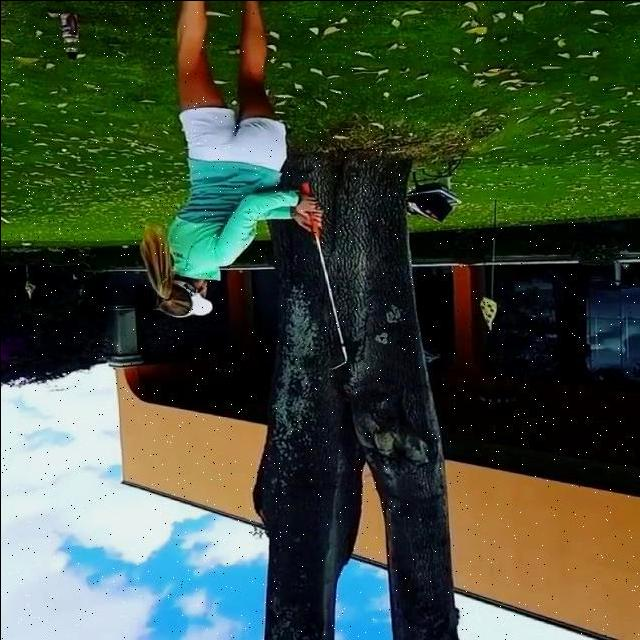ClubHandle: (300, 182, 348, 368)
ClubHead: (330, 357, 348, 368)
